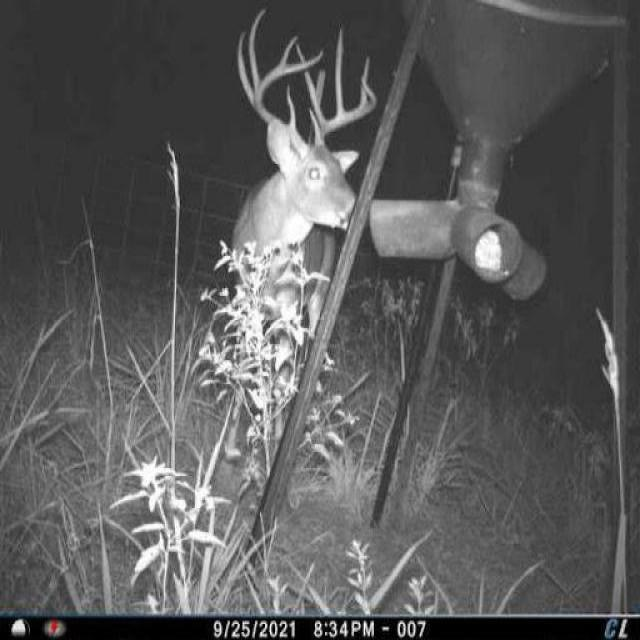deer: (222, 0, 381, 467)
